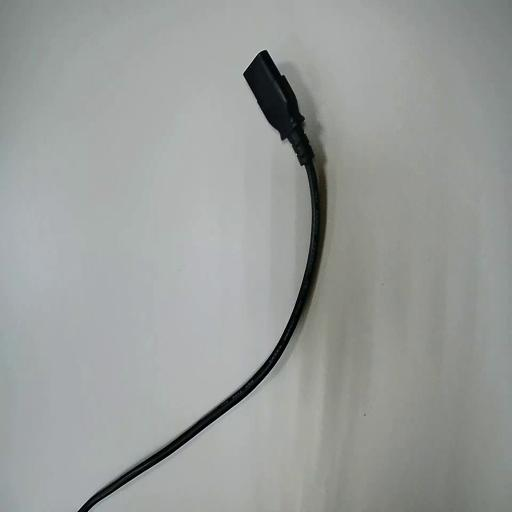wire: (79, 51, 325, 511)
